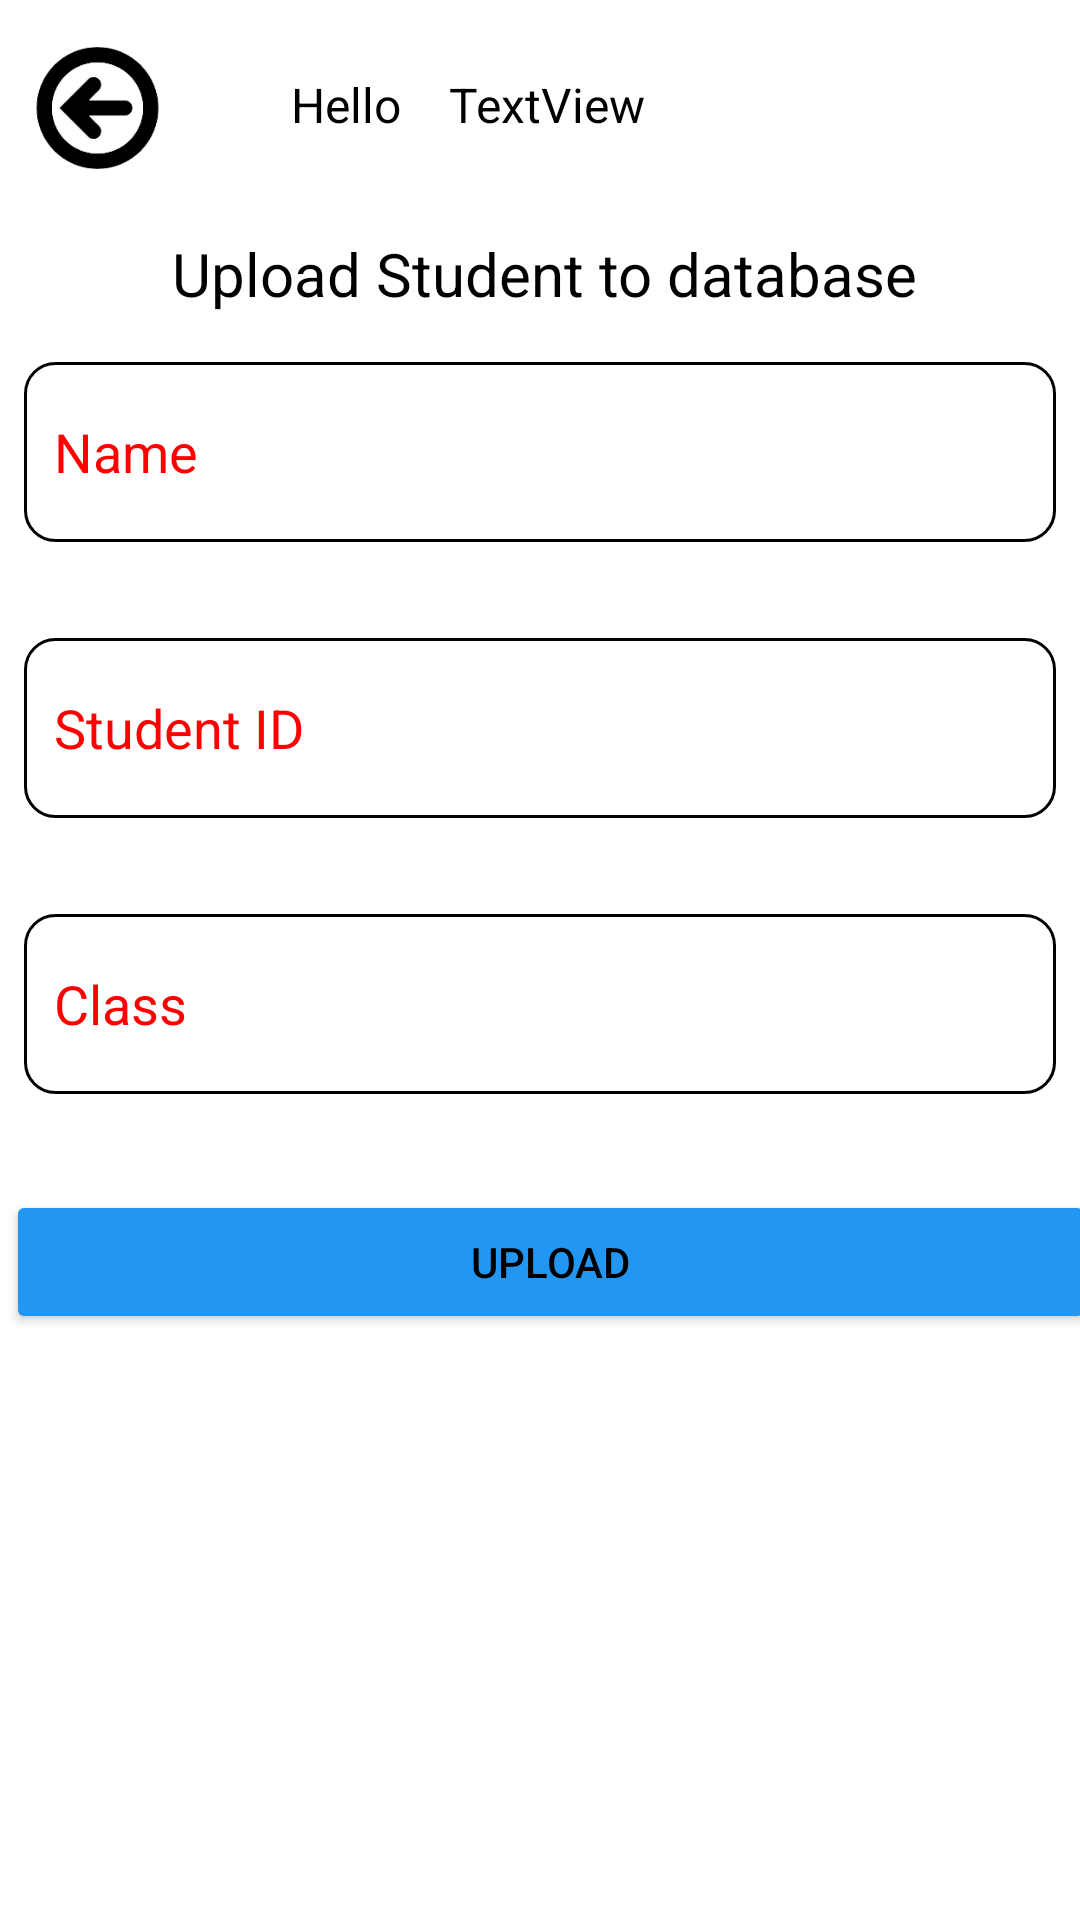

Named icons in this screenshot (1080px x 1920px) and their centers, [x,y]:
backbutton: [97,108]
